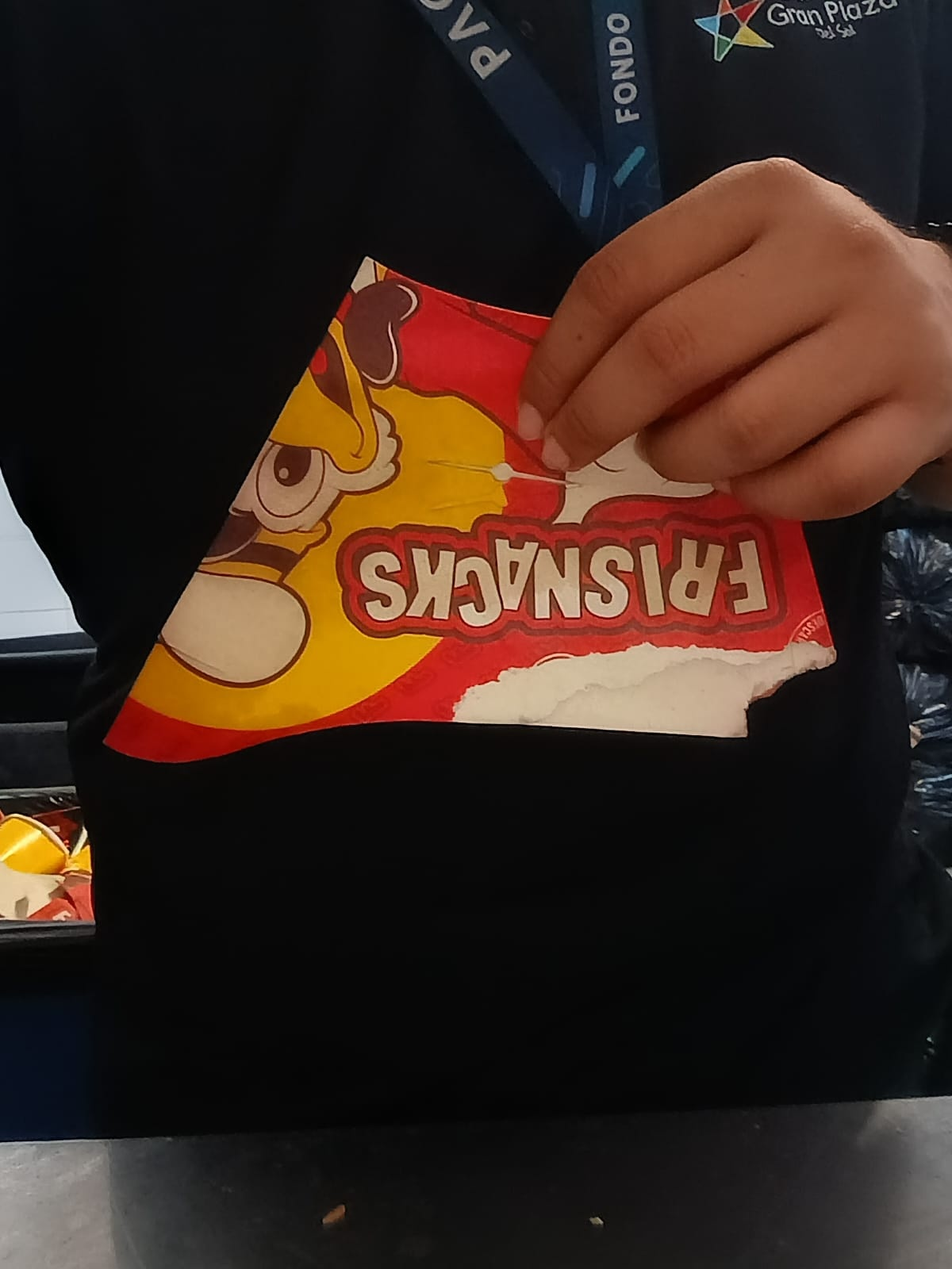Carton: (108, 253, 839, 765)
